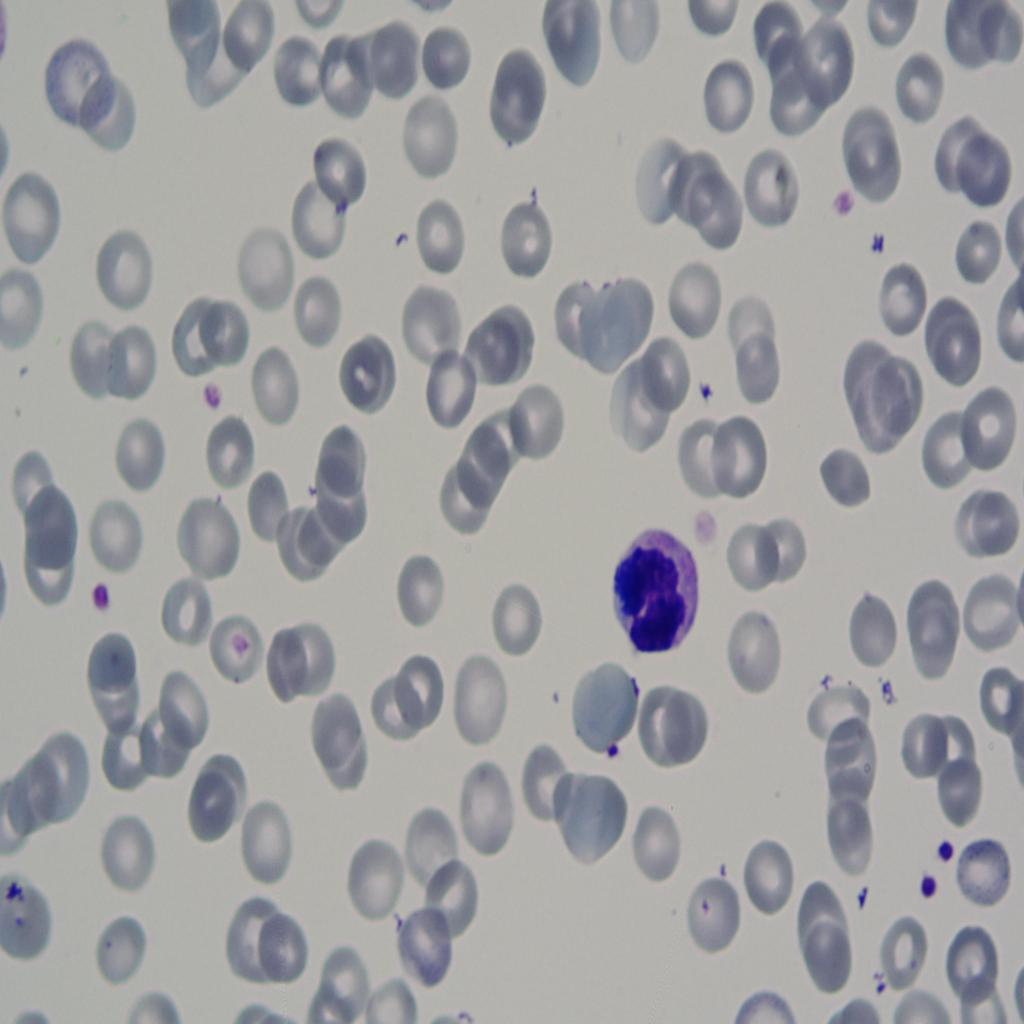Myeoblast: (595, 510, 705, 668)
Platelet: (200, 341, 230, 409), (87, 570, 118, 618), (688, 368, 716, 418), (922, 861, 947, 905), (832, 184, 857, 226), (936, 824, 958, 868), (870, 224, 892, 265)
